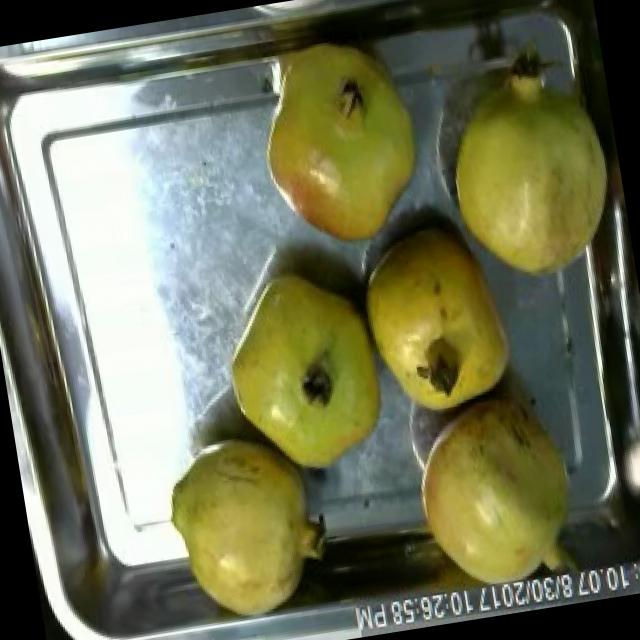fruit: (420, 40, 635, 305), (390, 372, 596, 617), (142, 410, 352, 640), (205, 256, 406, 494), (244, 44, 447, 270), (346, 205, 534, 428)
